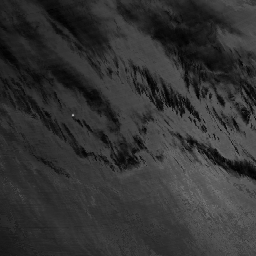Target: (69, 112, 75, 118)
